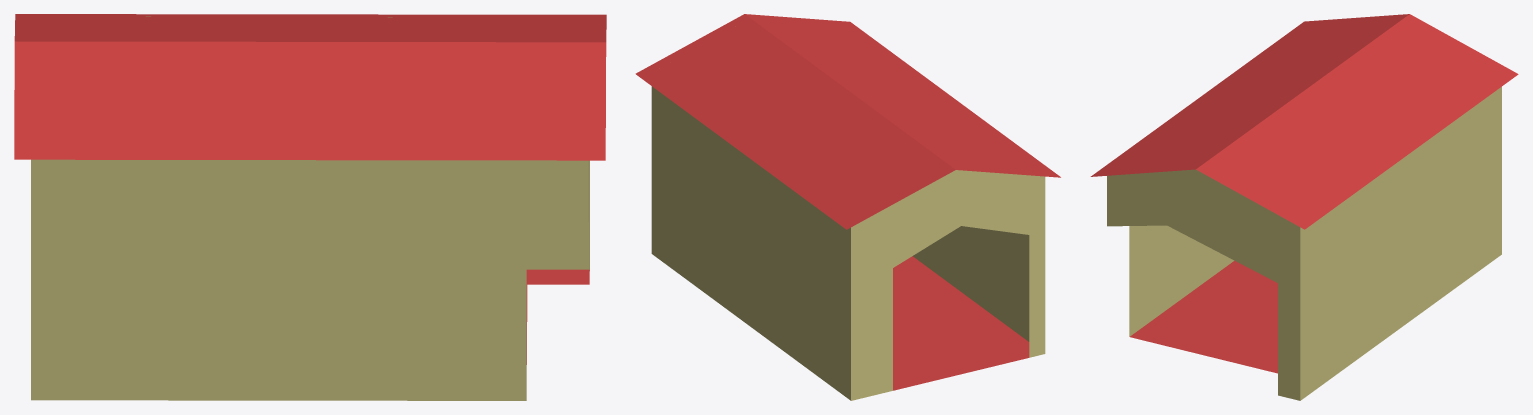
The picture shows the model from 3 angles, left to right: view 1: azimuth 30°, elevation 25°; view 2: azimuth 150°, elevation 25°; view 3: azimuth 270°, elevation 25°; orthographic projection. The views are drawn at different scales.
Visible parts, largest first — view 1: group_5, group_3, group_4, group_6; view 2: group_5, group_3, group_6, group_4; view 3: group_5, group_3, group_6, group_4.
Boxes of the visible parts, bbox=[...] form: group_5: bbox=[31, 16, 589, 400]; group_3: bbox=[14, 16, 606, 160]; group_4: bbox=[14, 14, 606, 160]; group_6: bbox=[526, 269, 589, 364]; group_5: bbox=[651, 86, 1045, 400]; group_3: bbox=[652, 14, 1060, 219]; group_6: bbox=[893, 256, 1029, 390]; group_4: bbox=[635, 14, 1003, 229]; group_5: bbox=[1107, 86, 1501, 400]; group_3: bbox=[1090, 14, 1501, 219]; group_6: bbox=[1130, 260, 1277, 373]; group_4: bbox=[1196, 14, 1518, 229].
Bounding box in the file's own units: 30.36 × 26.41 × 14.4.
